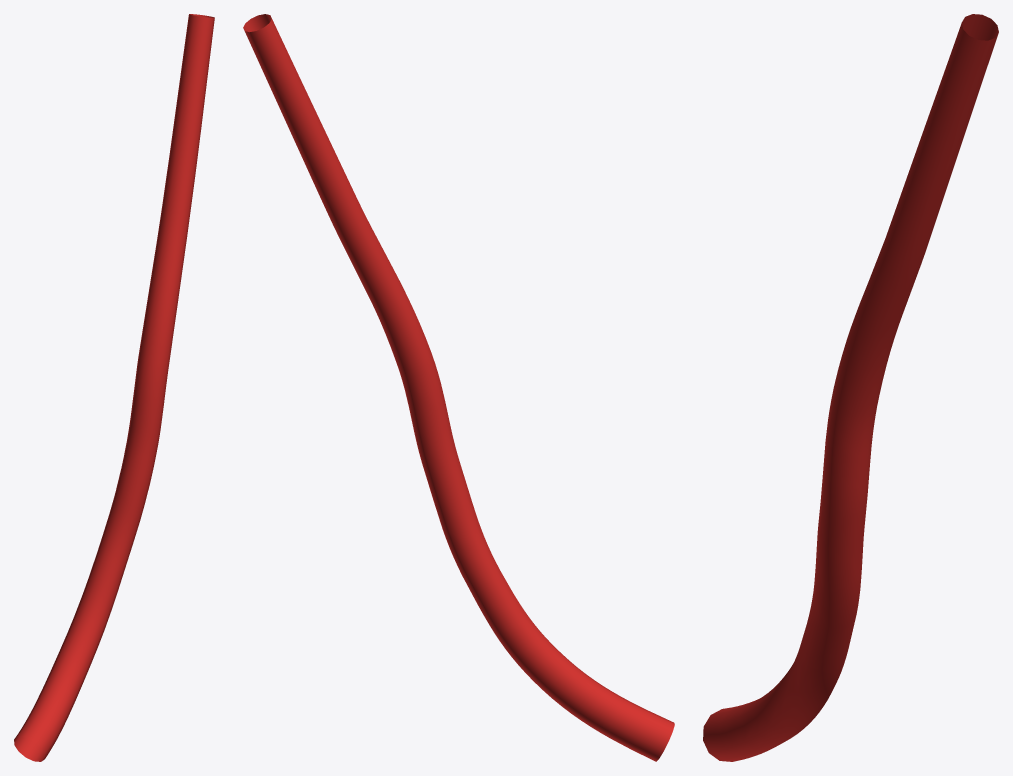
Rendered from circulatorio-ascending-branch-of-left-colic-artery.glb.
3 renders of one model, left to right at view 1: azimuth 30°, elevation 25°; view 2: azimuth 150°, elevation 25°; view 3: azimuth 270°, elevation 25°, orthographic. The views are drawn at different scales.
Parts seen in each view (by area): view 1: Ascending branch of left colic artery; view 2: Ascending branch of left colic artery; view 3: Ascending branch of left colic artery.
Part boxes in pixels (x1=…): Ascending branch of left colic artery: x1=14, y1=14, x2=214, y2=761; Ascending branch of left colic artery: x1=243, y1=14, x2=674, y2=761; Ascending branch of left colic artery: x1=703, y1=14, x2=998, y2=761.
Size of the model in its own units: 0.0245 by 0.0527 by 0.0153.
